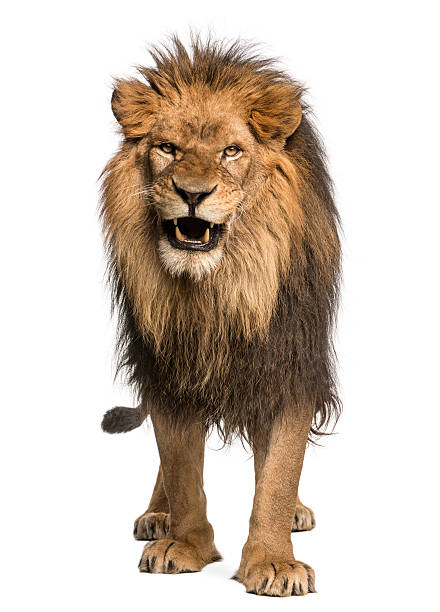lion: (77, 38, 381, 469)
